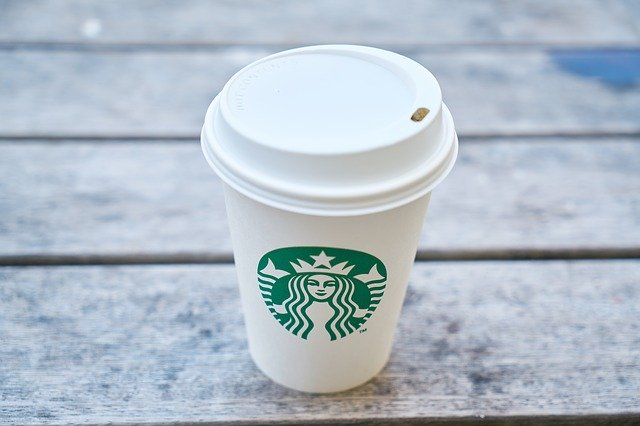cup: (188, 32, 464, 403)
